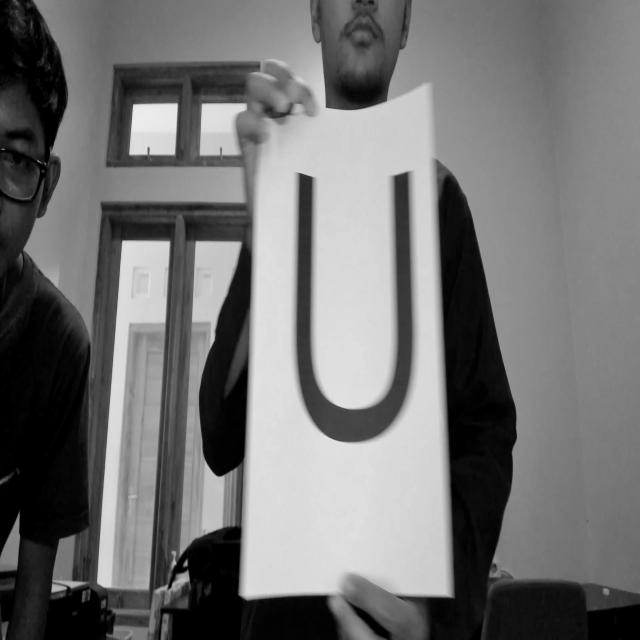u: (286, 160, 426, 456)
